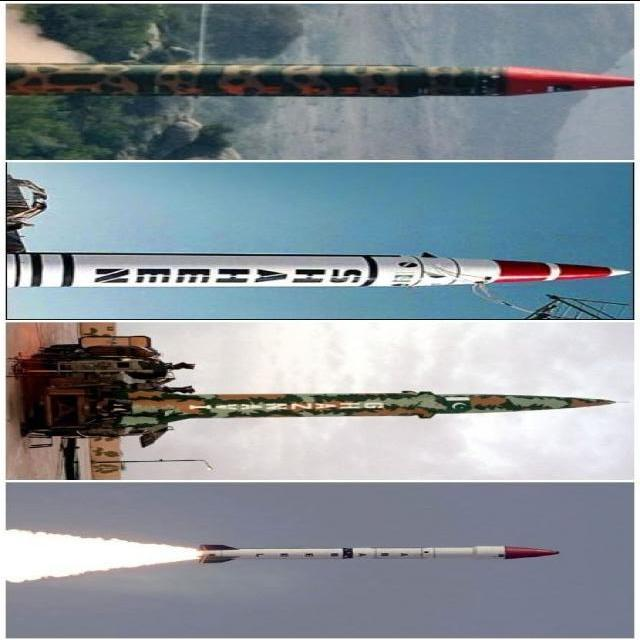missile: (0, 248, 633, 293), (16, 59, 640, 103), (140, 387, 629, 421), (192, 542, 564, 564)
